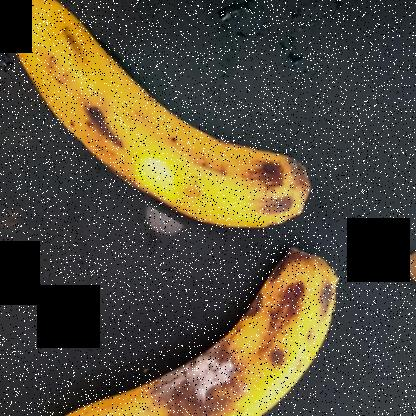overripe: (0, 1, 320, 240), (34, 251, 341, 415)
rotten: (155, 310, 254, 415)
